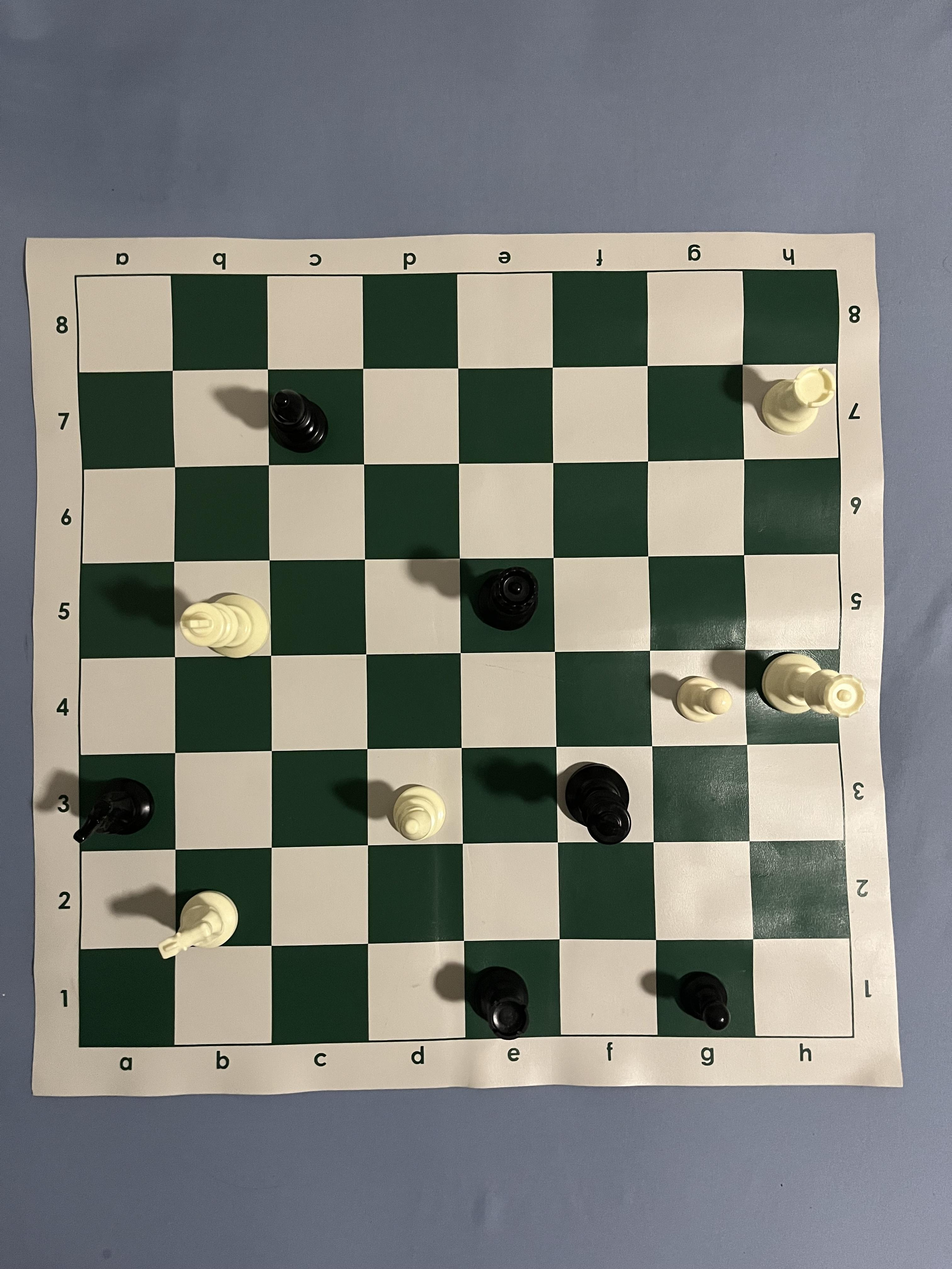black_bishop: (269, 388, 328, 453)
black_king: (562, 762, 632, 846)
black_knight: (72, 776, 155, 844)
black_pawn: (672, 970, 732, 1032)
black_queen: (468, 566, 539, 631)
black_rook: (470, 965, 530, 1041)
white_bishop: (393, 784, 446, 842)
white_king: (178, 592, 269, 659)
white_knight: (158, 890, 239, 960)
white_pawn: (676, 676, 732, 723)
white_queen: (761, 654, 865, 718)
white_rook: (760, 366, 837, 437)
